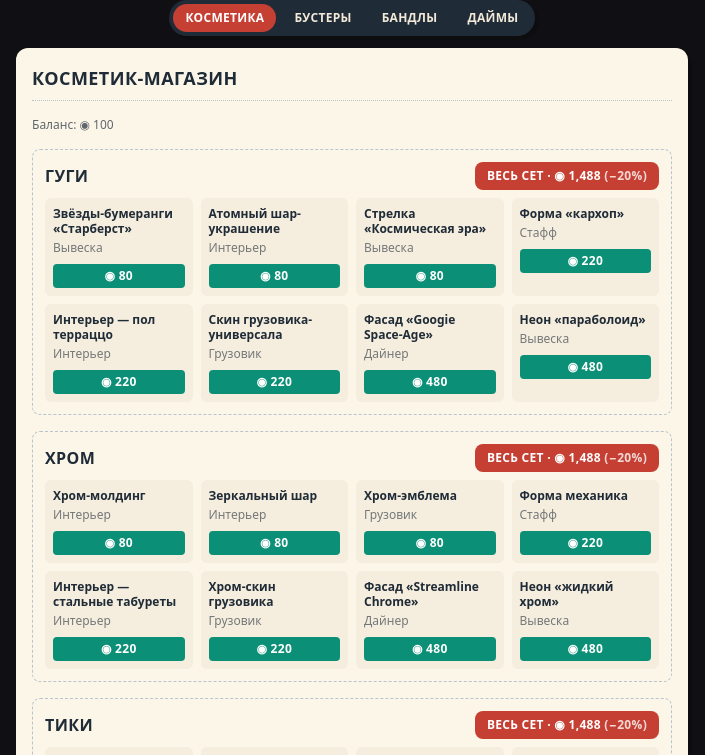
Test: ShopHome › переключение на таб Dimes рендерит DimesShop
Click the button with test id "shop-tab-dimes": {"x": 493, "y": 18} [456, 4, 530, 32]
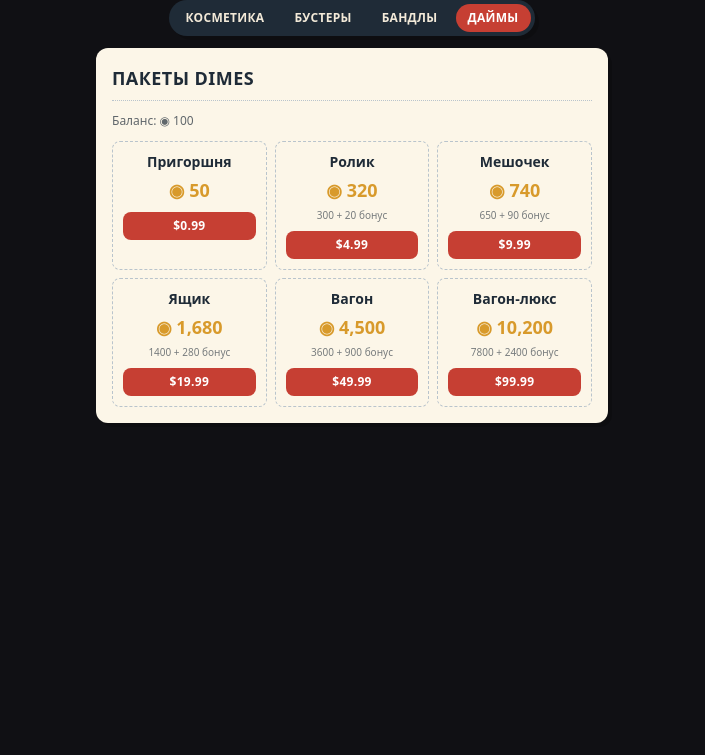
Expected: the element with test id "ui-dimes-shop" is shown, [96, 48, 608, 423]
